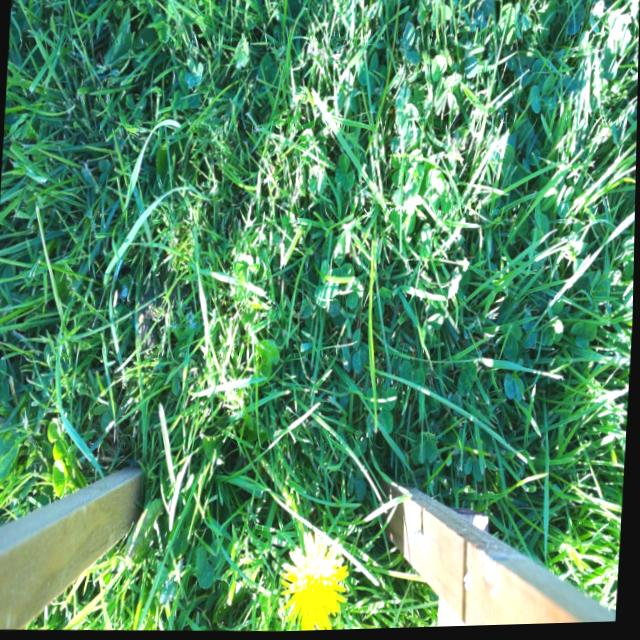flower: (282, 532, 352, 633)
